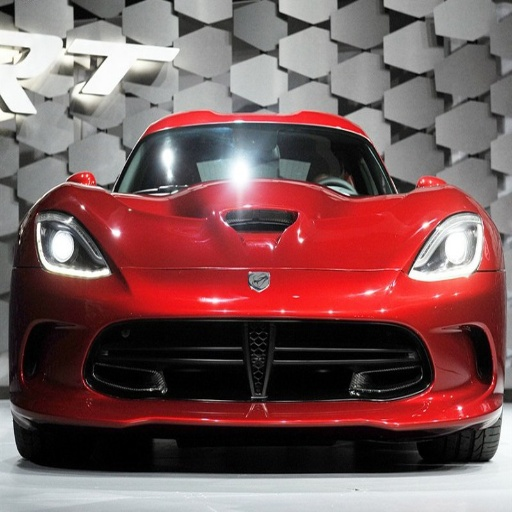front_bumper: (12, 271, 503, 433)
front_left_light: (409, 213, 493, 279)
trunk: (77, 178, 395, 317)
